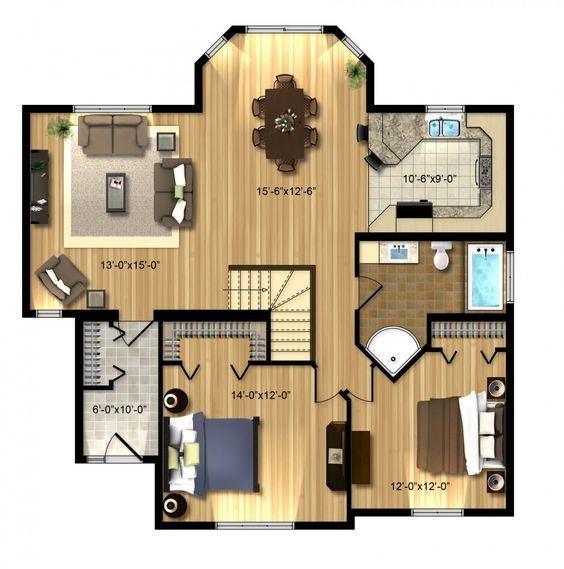room: (157, 308, 351, 529), (22, 105, 201, 319), (345, 347, 514, 517)
